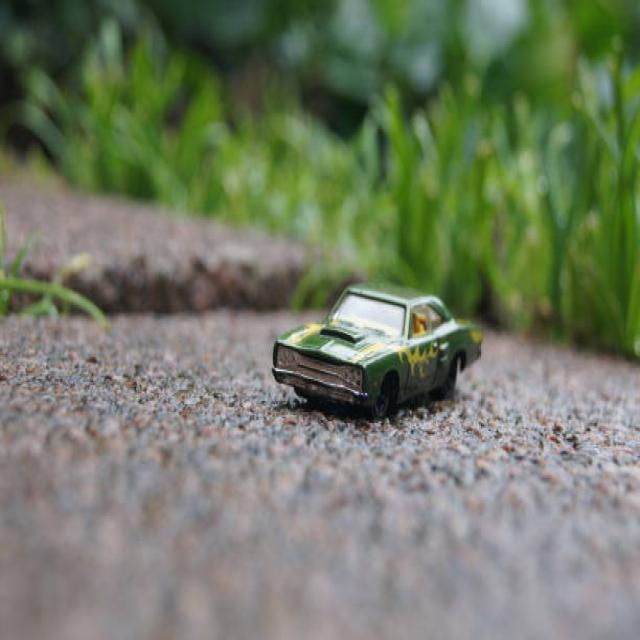Car: (271, 281, 482, 420)
